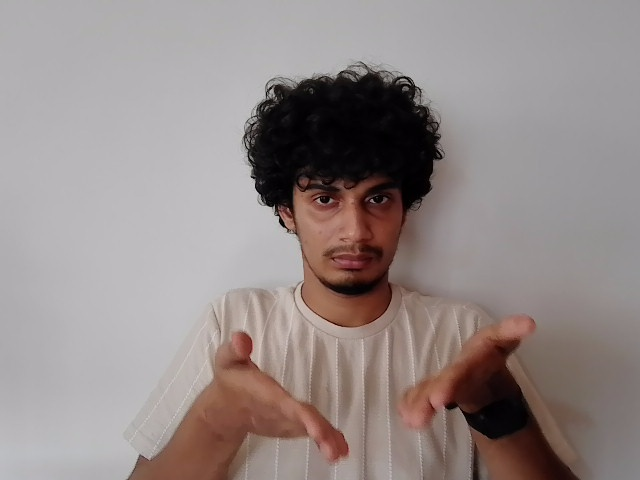here: (211, 316, 538, 449)
